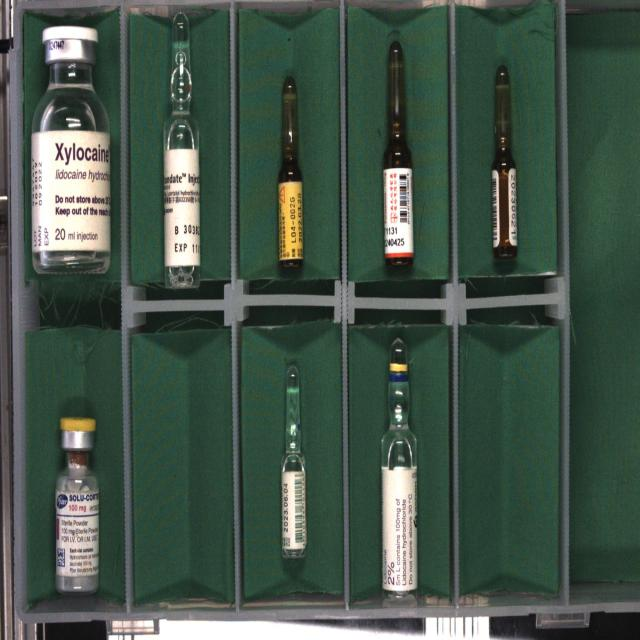Vials: (31, 26, 110, 274), (56, 417, 99, 597)
